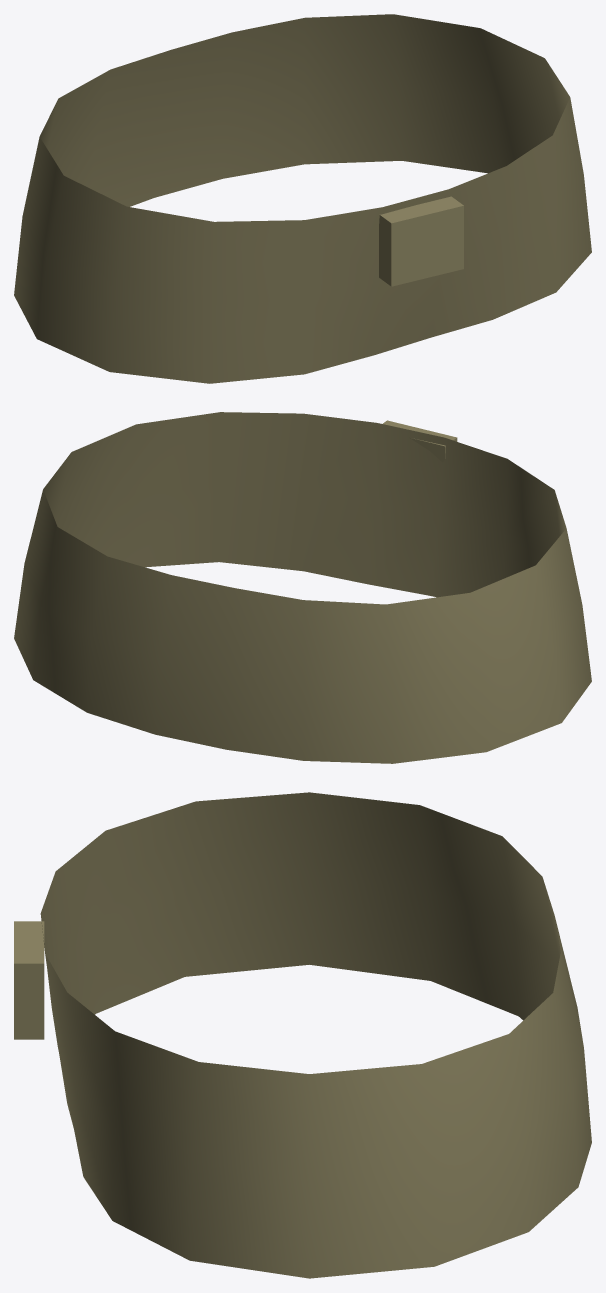
Rendered from tin_armor_belt.glb.
The picture shows the model from 3 angles, top to bottom: view 1: azimuth 30°, elevation 25°; view 2: azimuth 150°, elevation 25°; view 3: azimuth 270°, elevation 25°; orthographic projection. The views are drawn at different scales.
Parts seen in each view (by area): view 1: tin_armor_belt; view 2: tin_armor_belt; view 3: tin_armor_belt.
Part boxes in pixels (box(x1,y1,x2,y2)): tin_armor_belt: box(14, 14, 591, 383); tin_armor_belt: box(14, 412, 591, 763); tin_armor_belt: box(14, 792, 591, 1278).
Size of the model in its own units: 0.4427 by 0.1238 by 0.3446.
